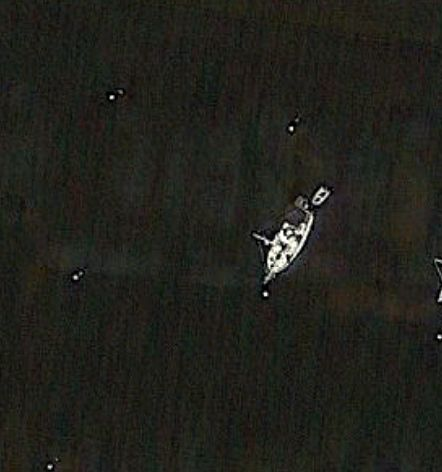boat: (253, 193, 317, 286)
